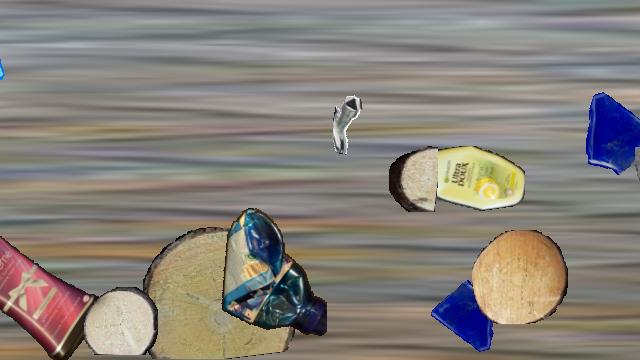glass: (429, 280, 507, 358), (573, 85, 640, 175), (629, 147, 640, 215), (0, 1, 7, 91)
metal: (333, 95, 395, 157)
plastic: (218, 206, 326, 342), (0, 221, 104, 359), (412, 146, 524, 212)
wood: (139, 227, 299, 359), (472, 230, 568, 324), (84, 287, 158, 355), (389, 145, 437, 211)
